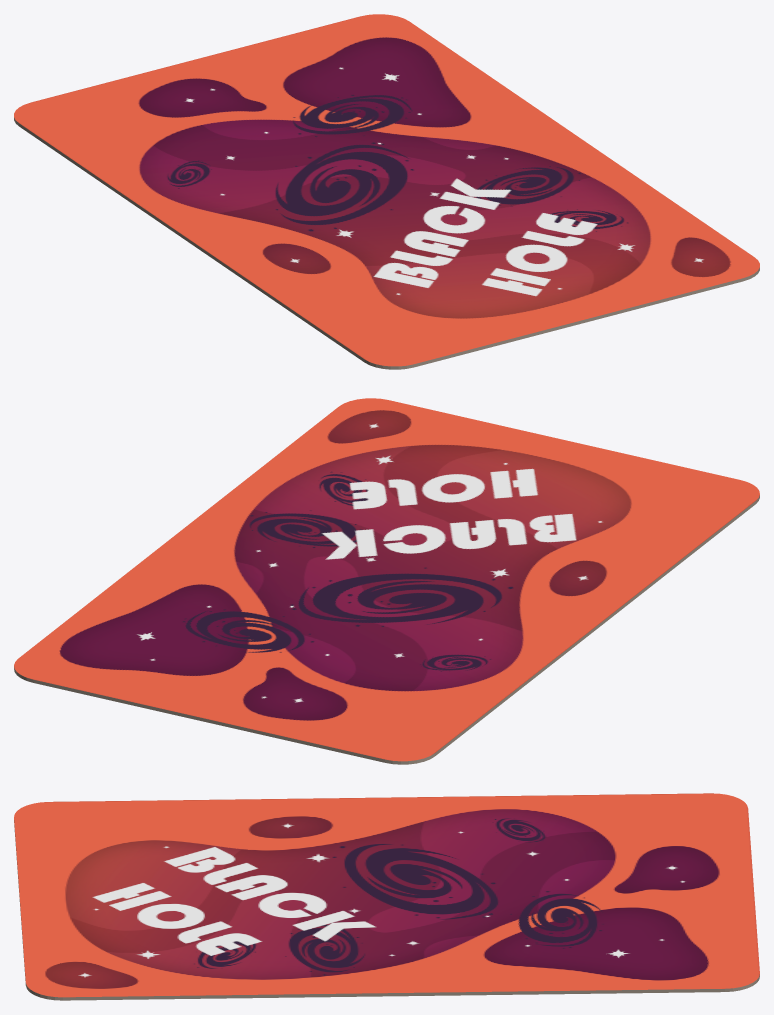
Rendered from blekholcard.fbx.
3 views of the same model, one above another, from view 1: azimuth 30°, elevation 25°; view 2: azimuth 150°, elevation 25°; view 3: azimuth 270°, elevation 25° (orthographic). The views are drawn at different scales.
Visible parts, largest first — view 1: card.001; view 2: card.001; view 3: card.001.
Part boxes in pixels (x1,y1,x2,y2): card.001: (14, 14, 759, 369); card.001: (14, 398, 759, 764); card.001: (14, 793, 759, 1000).
Size of the model in its own units: 222 by 1.66 by 343.
3 materials, 2 textured.
